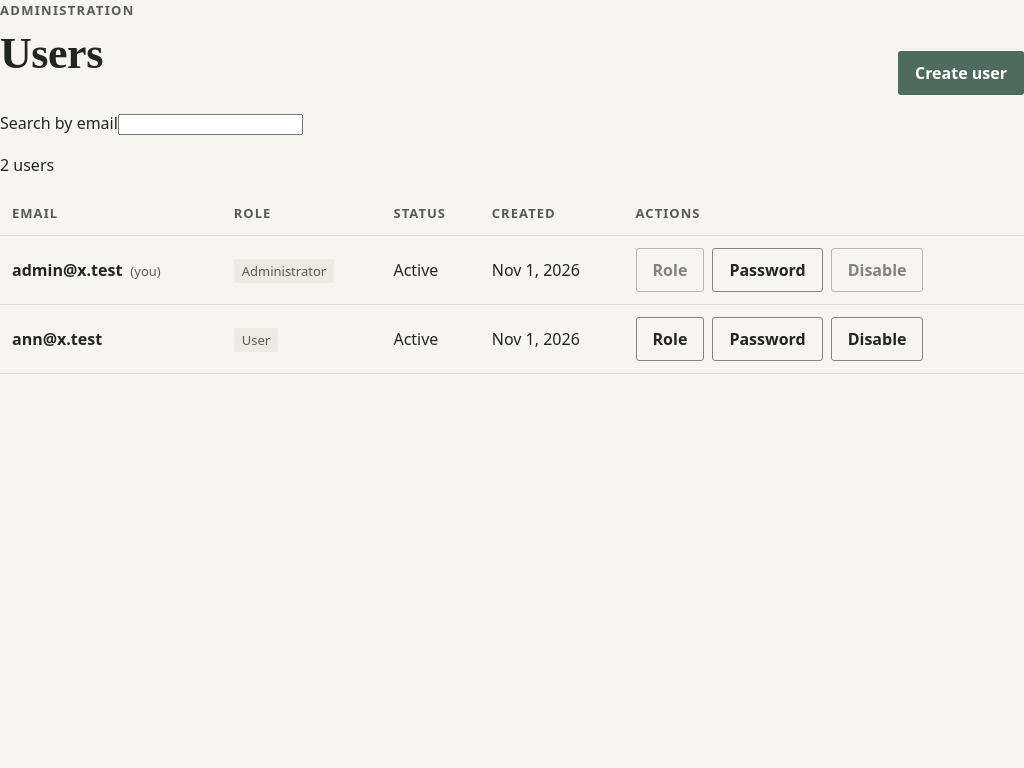
it: UsersPage › disables a user after a confirmation
What coordinates should you click on to do the following:
click the button with aria-label "Disable ann@x.test"
I would click on:
 (877, 339)
Its box is [831,317,924,361].
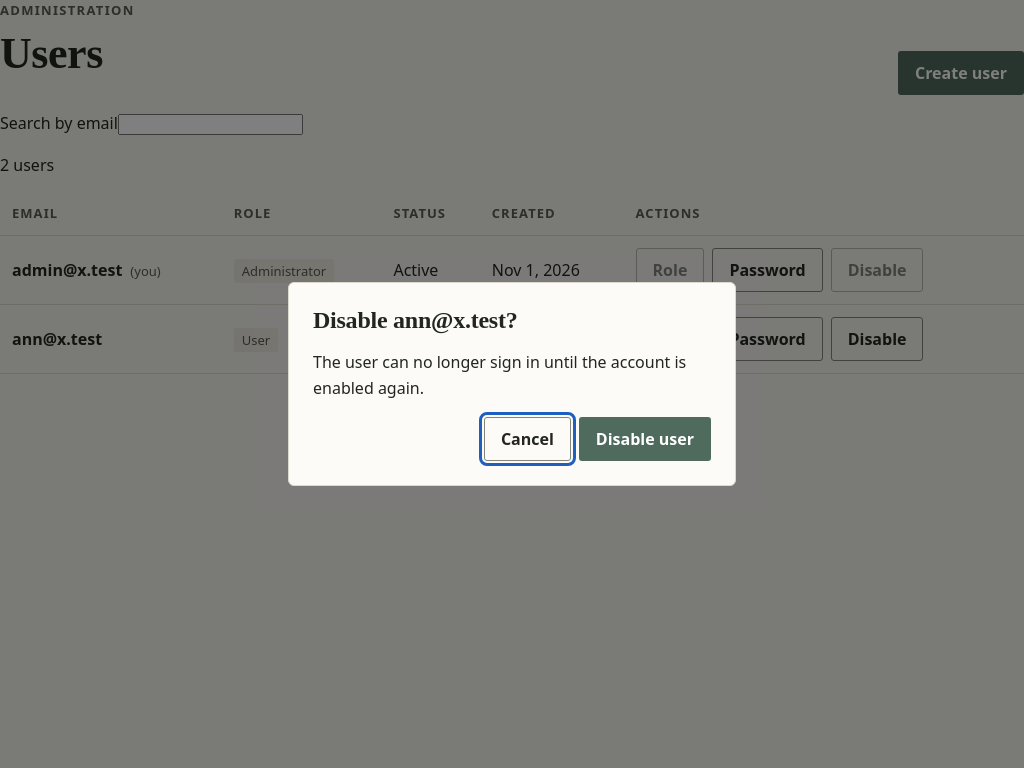
What coordinates should you click on to do the following:
click the button "Disable user"
I would click on:
 (645, 439)
Its box is [579,417,711,461].
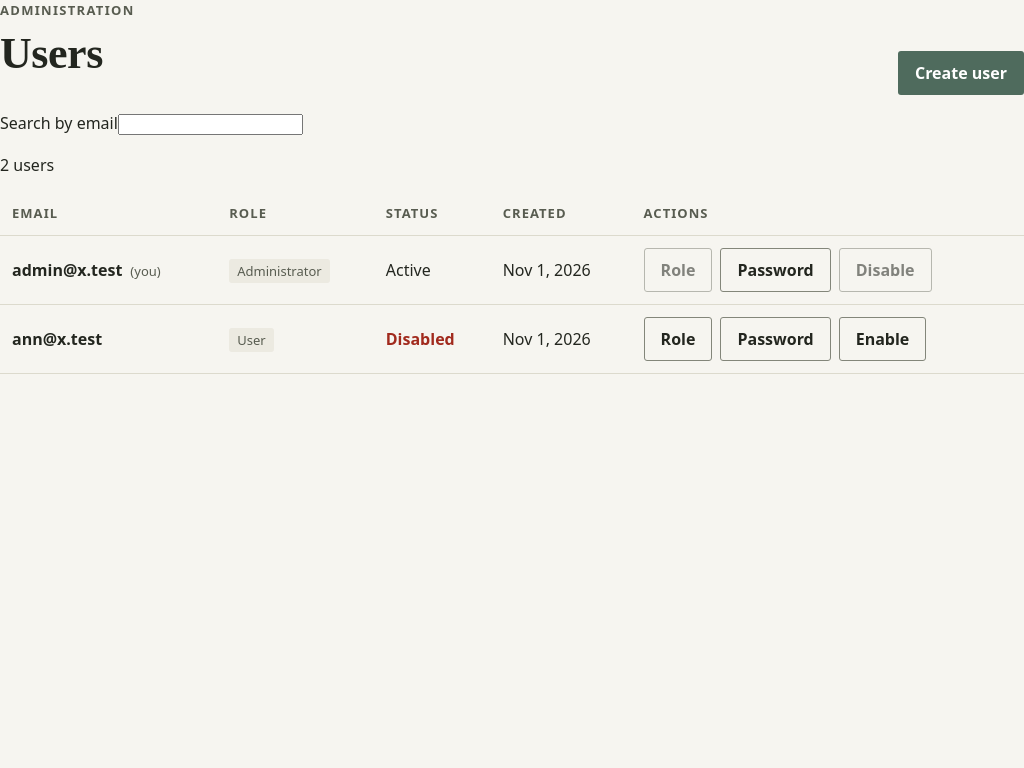
Now the button with aria-label "Enable ann@x.test" is shown, box [839,317,926,361]
